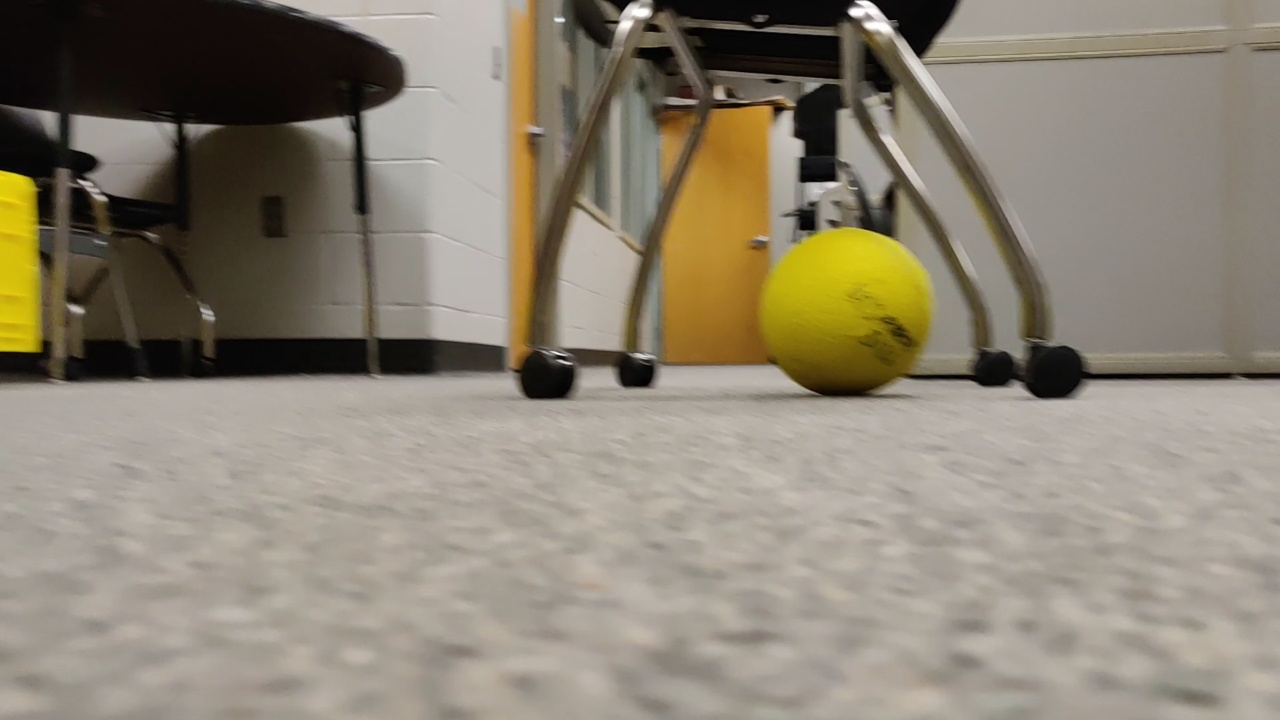Ball: (758, 225, 940, 406)
